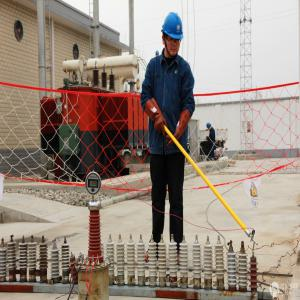blue: (162, 13, 184, 57), (207, 122, 212, 131), (156, 51, 160, 58)
